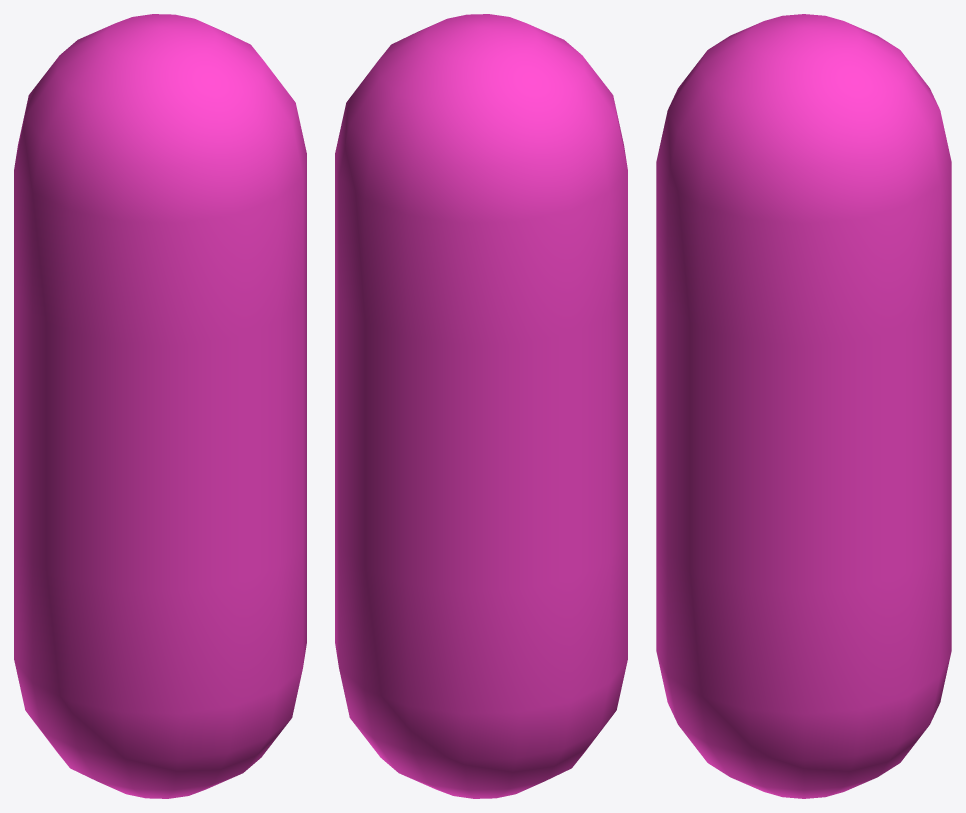
3 views of the same model, side by side, from view 1: azimuth 30°, elevation 25°; view 2: azimuth 150°, elevation 25°; view 3: azimuth 270°, elevation 25° (orthographic).
Visible parts, largest first — view 1: Capsule; view 2: Capsule; view 3: Capsule.
Part boxes in pixels (box(x1,y1,x2,y2)): Capsule: box(14, 14, 306, 798); Capsule: box(335, 14, 627, 798); Capsule: box(656, 14, 951, 798).
Bounding box in the file's own units: 60 × 170 × 60.
